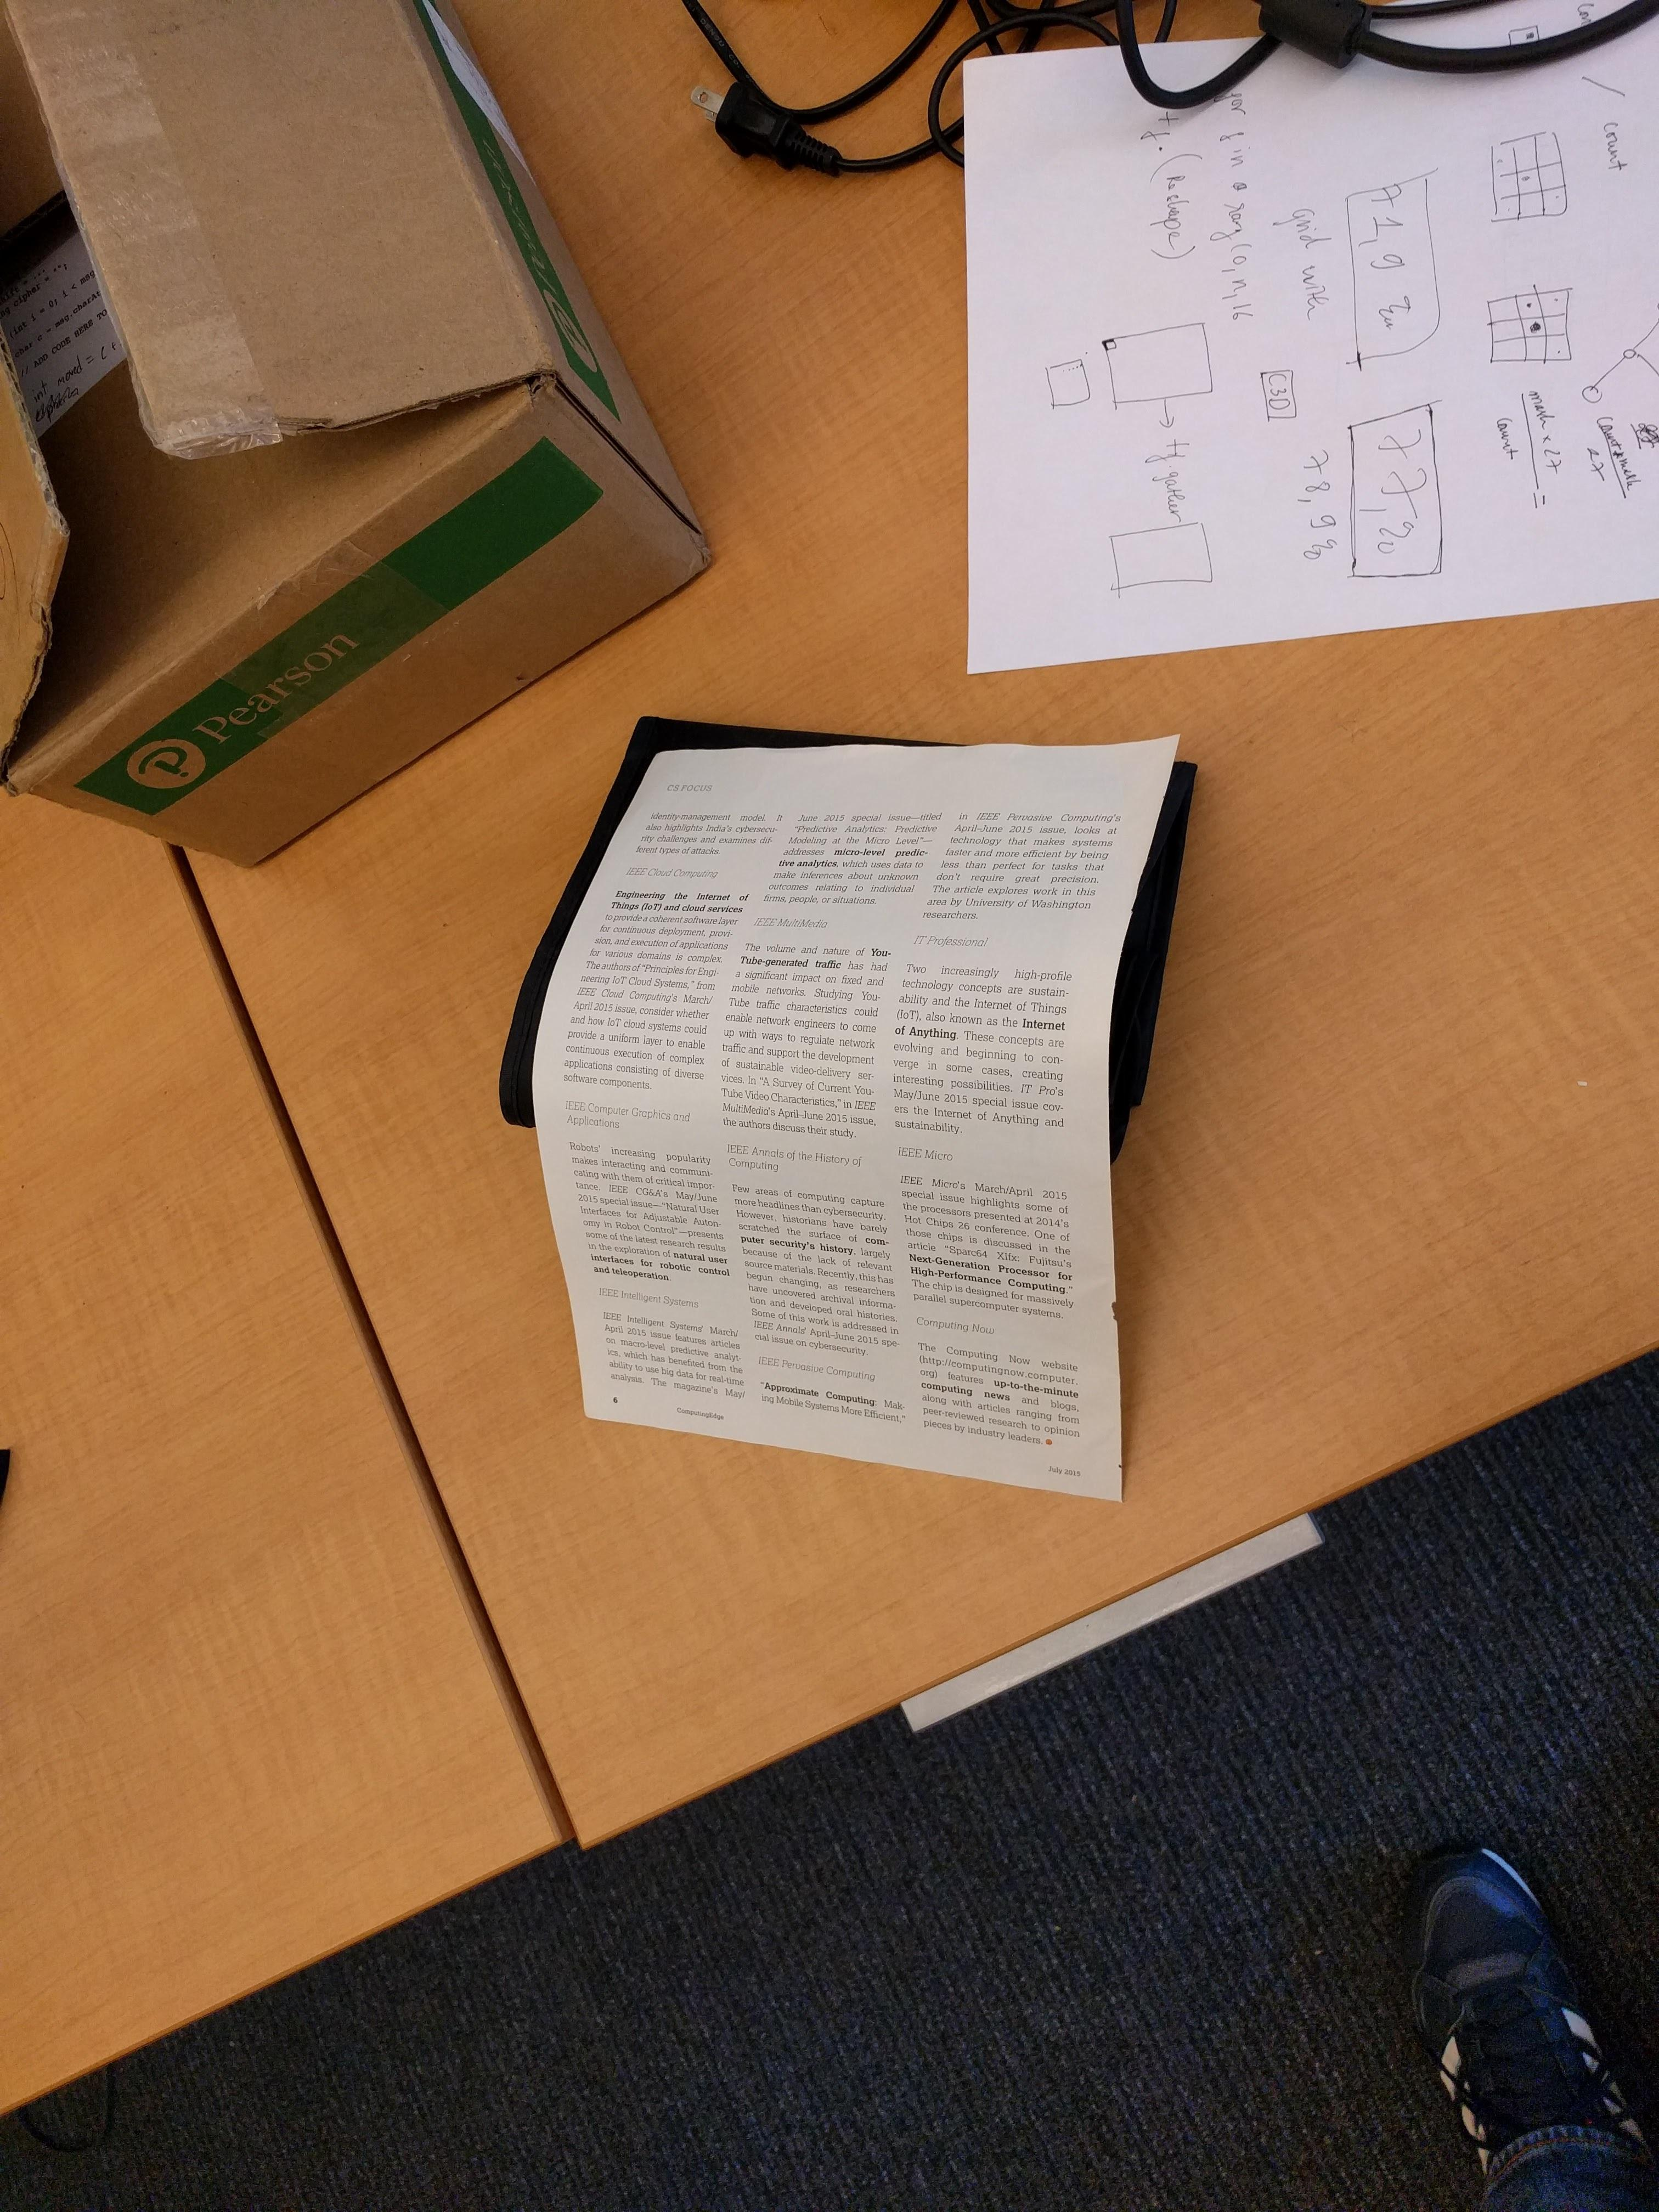paper: (387, 590, 1323, 1676), (880, 14, 1659, 707)
